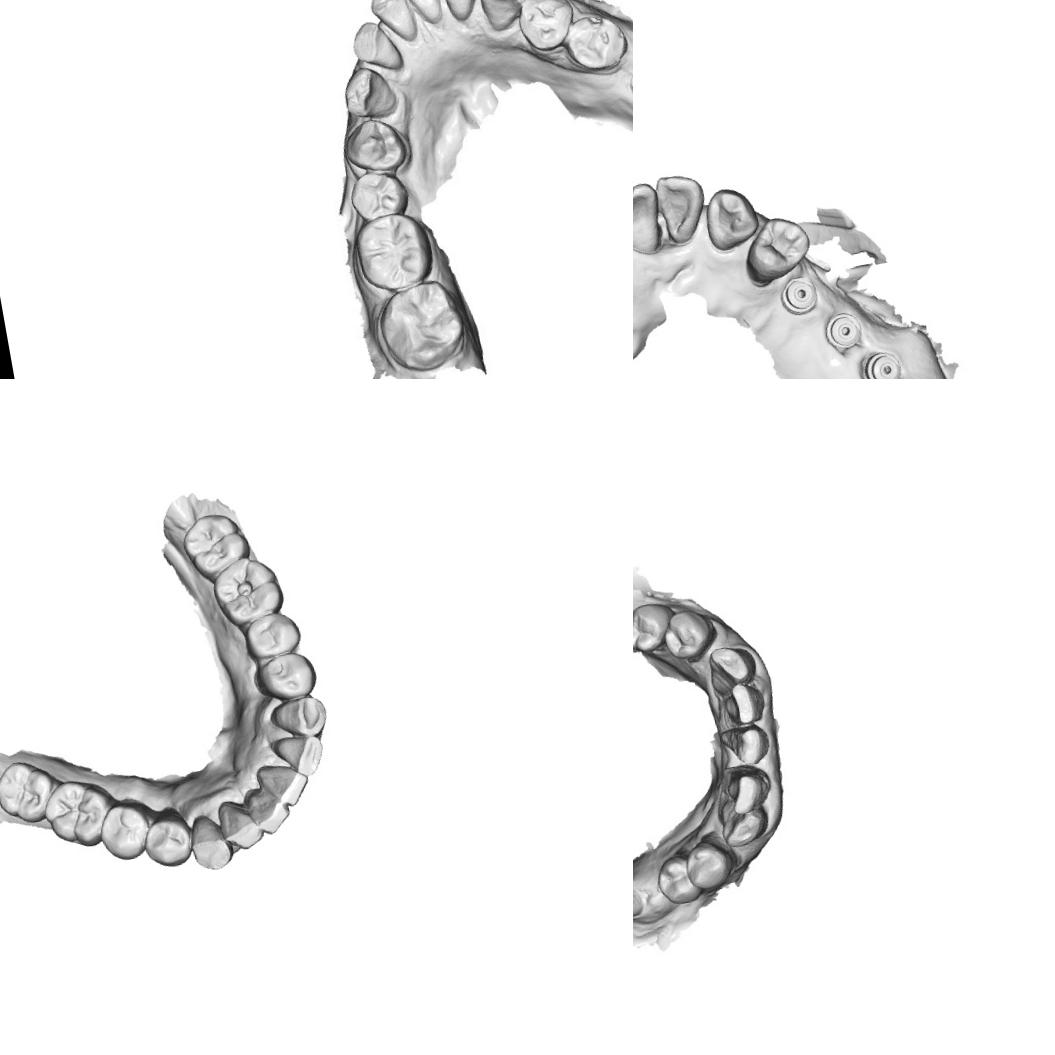canine: (700, 182, 763, 253), (338, 60, 400, 124), (713, 788, 772, 850), (184, 810, 236, 874), (267, 691, 330, 742), (704, 640, 760, 697), (474, 0, 534, 32)
implant: (820, 306, 865, 352), (776, 273, 821, 319), (857, 346, 904, 379)
incisor: (650, 169, 712, 248), (346, 15, 404, 77), (718, 758, 776, 816), (253, 756, 312, 812), (269, 730, 327, 782), (214, 795, 266, 853), (242, 781, 293, 838), (716, 720, 773, 770), (633, 179, 667, 262), (366, 0, 420, 46), (719, 678, 768, 728), (393, 0, 444, 29), (434, 0, 486, 24)
molar: (372, 274, 472, 378), (350, 206, 437, 297), (207, 551, 288, 634), (38, 773, 121, 854), (178, 508, 254, 584), (0, 753, 67, 828)
premolar: (737, 212, 816, 290), (338, 112, 410, 178), (560, 8, 631, 74), (93, 796, 156, 864), (137, 804, 196, 872), (346, 165, 412, 224), (659, 604, 721, 666), (680, 831, 741, 894), (251, 648, 319, 704), (513, 0, 579, 54), (240, 610, 304, 662), (651, 850, 706, 908), (633, 597, 680, 656)
